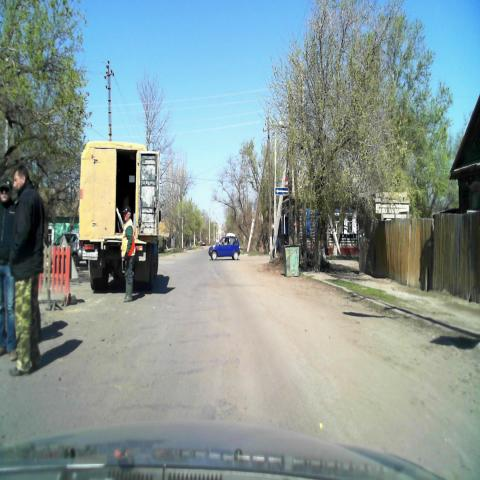5_7_2: (274, 186, 290, 194)
